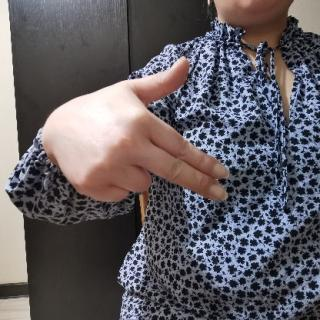GHAYN: (52, 53, 240, 210)
